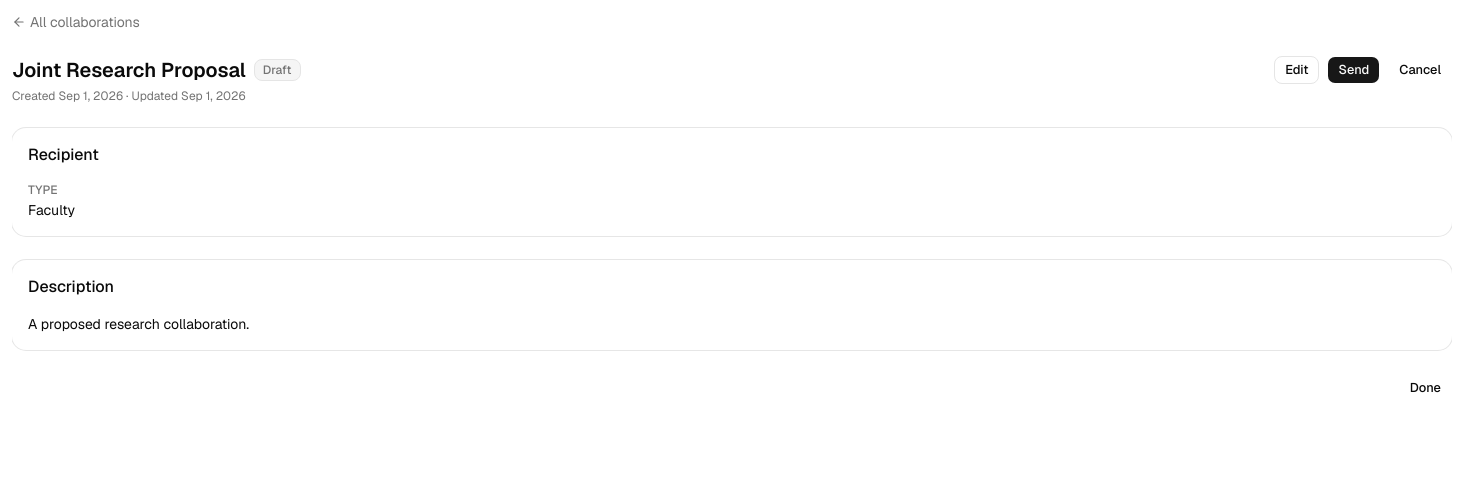
Test case: CollaborationDetailView › switches to the edit form and saves changes without touching the recipient
This screenshot has width=1464, height=486.
Expected: the heading "Joint Research Proposal" is shown, [12,56,246,84]
Click the button "Edit".
click(1297, 70)  # box [1274,56,1319,84]
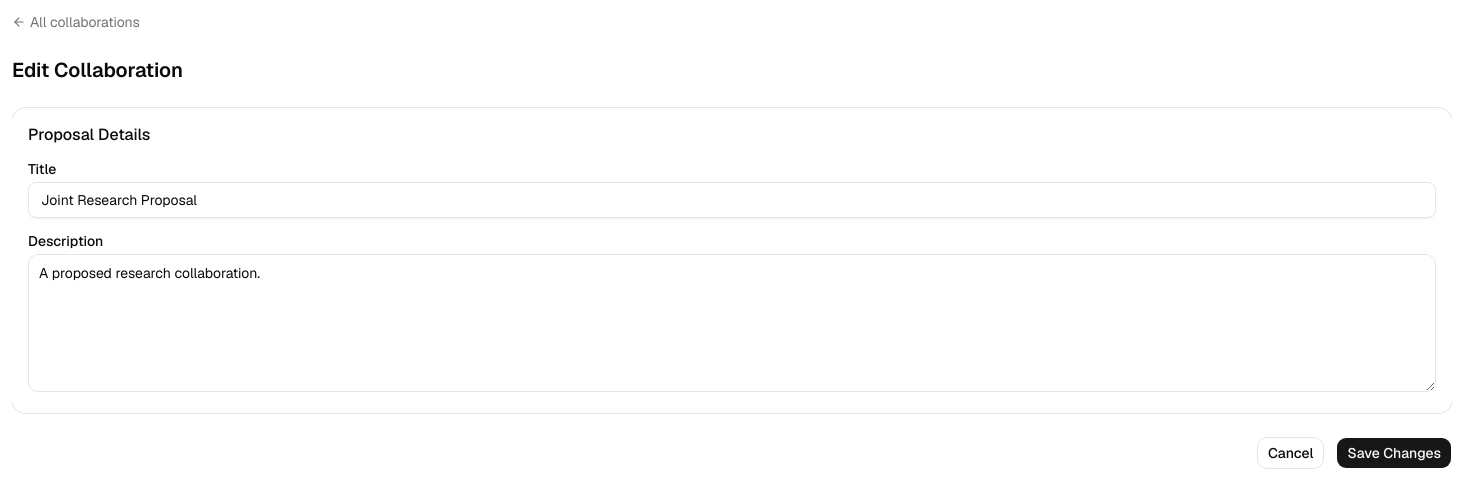
Replace the text in the field labelled "Title" with "Updated Proposal" at {"x": 732, "y": 200}, box [28,182,1436,218]
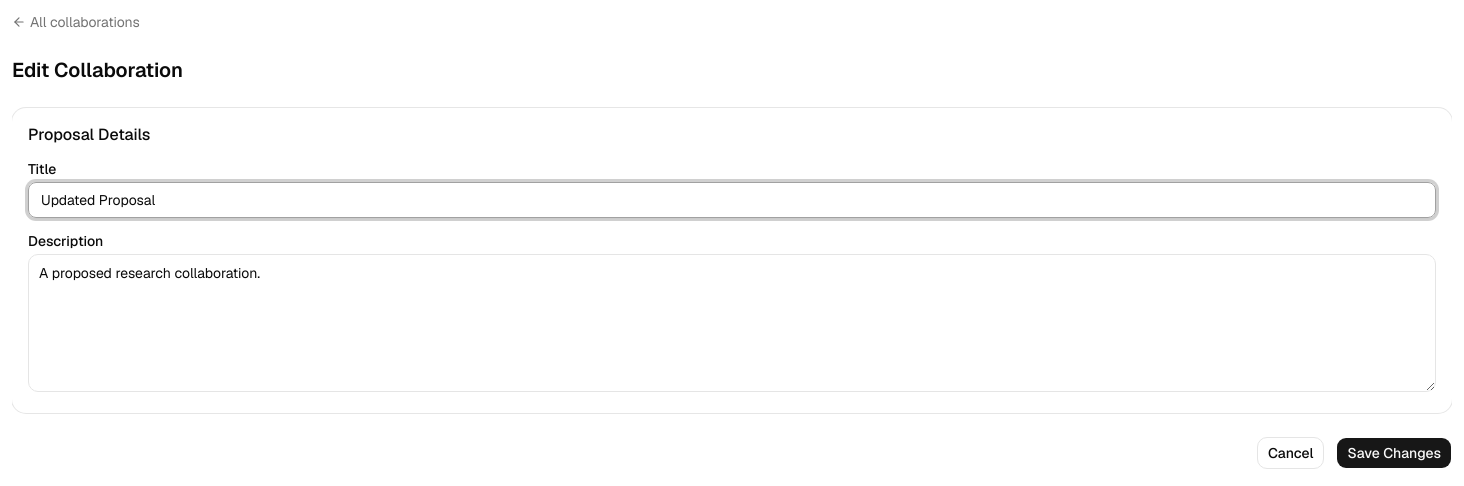
Click the button "Save Changes".
click(1394, 453)  # box [1336,437,1452,469]
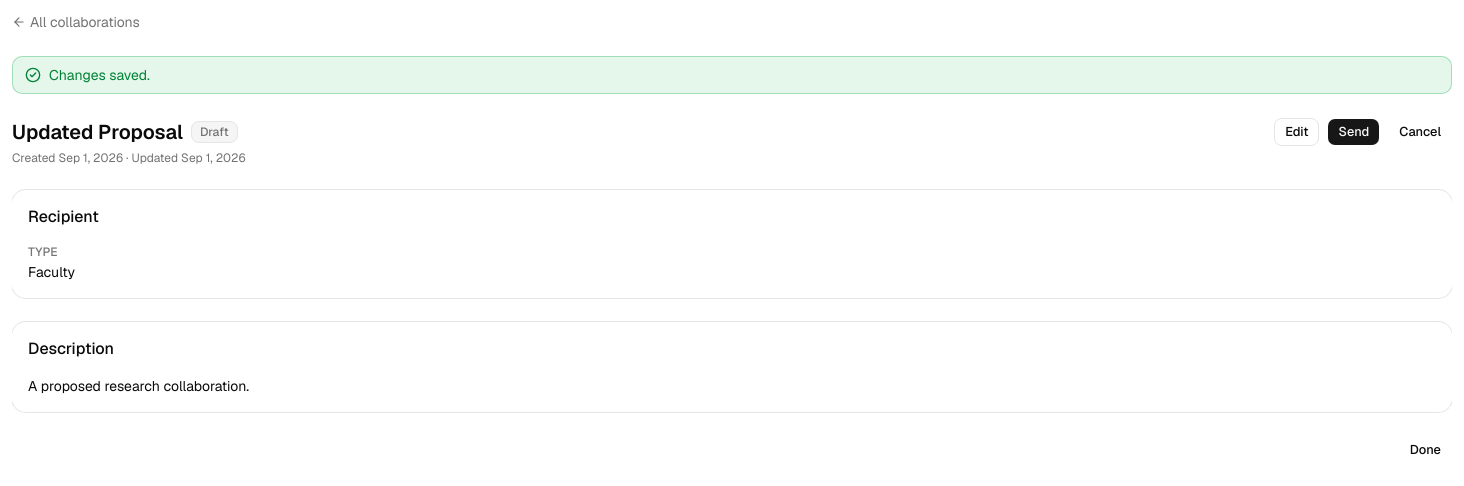
Result: the text "Changes saved." is shown at [49,65,150,85]
Result: the heading "Updated Proposal" is shown at [12,118,183,146]
